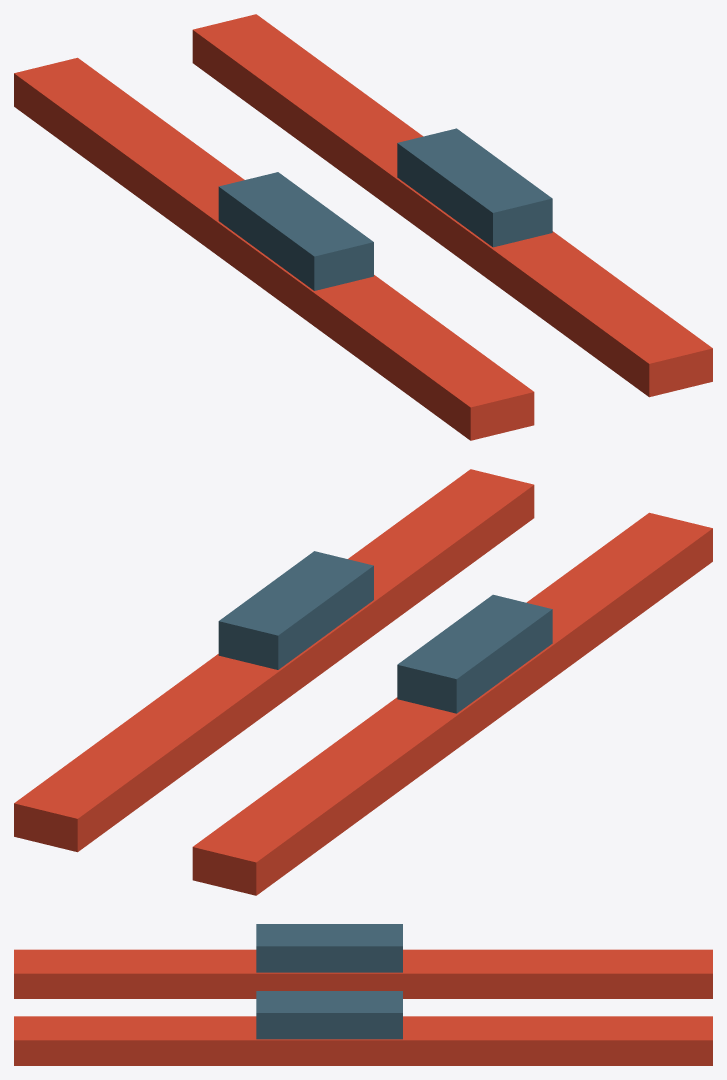
File: snow-skis.glb
3 views of the same model, one above another, from view 1: azimuth 30°, elevation 25°; view 2: azimuth 150°, elevation 25°; view 3: azimuth 270°, elevation 25° (orthographic). The views are drawn at different scales.
Parts seen in each view (by area): view 1: snow-skis; view 2: snow-skis; view 3: snow-skis.
Part boxes in pixels (left/top/right/bottom): snow-skis: left=14, top=14, right=712, bottom=440; snow-skis: left=14, top=469, right=712, bottom=895; snow-skis: left=14, top=924, right=712, bottom=1065.
Size of the model in its own units: 0.57 by 0.1525 by 1.86.
